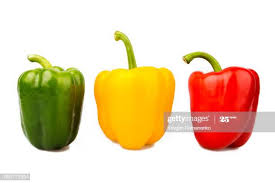bell pepper: (84, 25, 173, 152), (8, 41, 81, 157), (181, 48, 262, 151)
